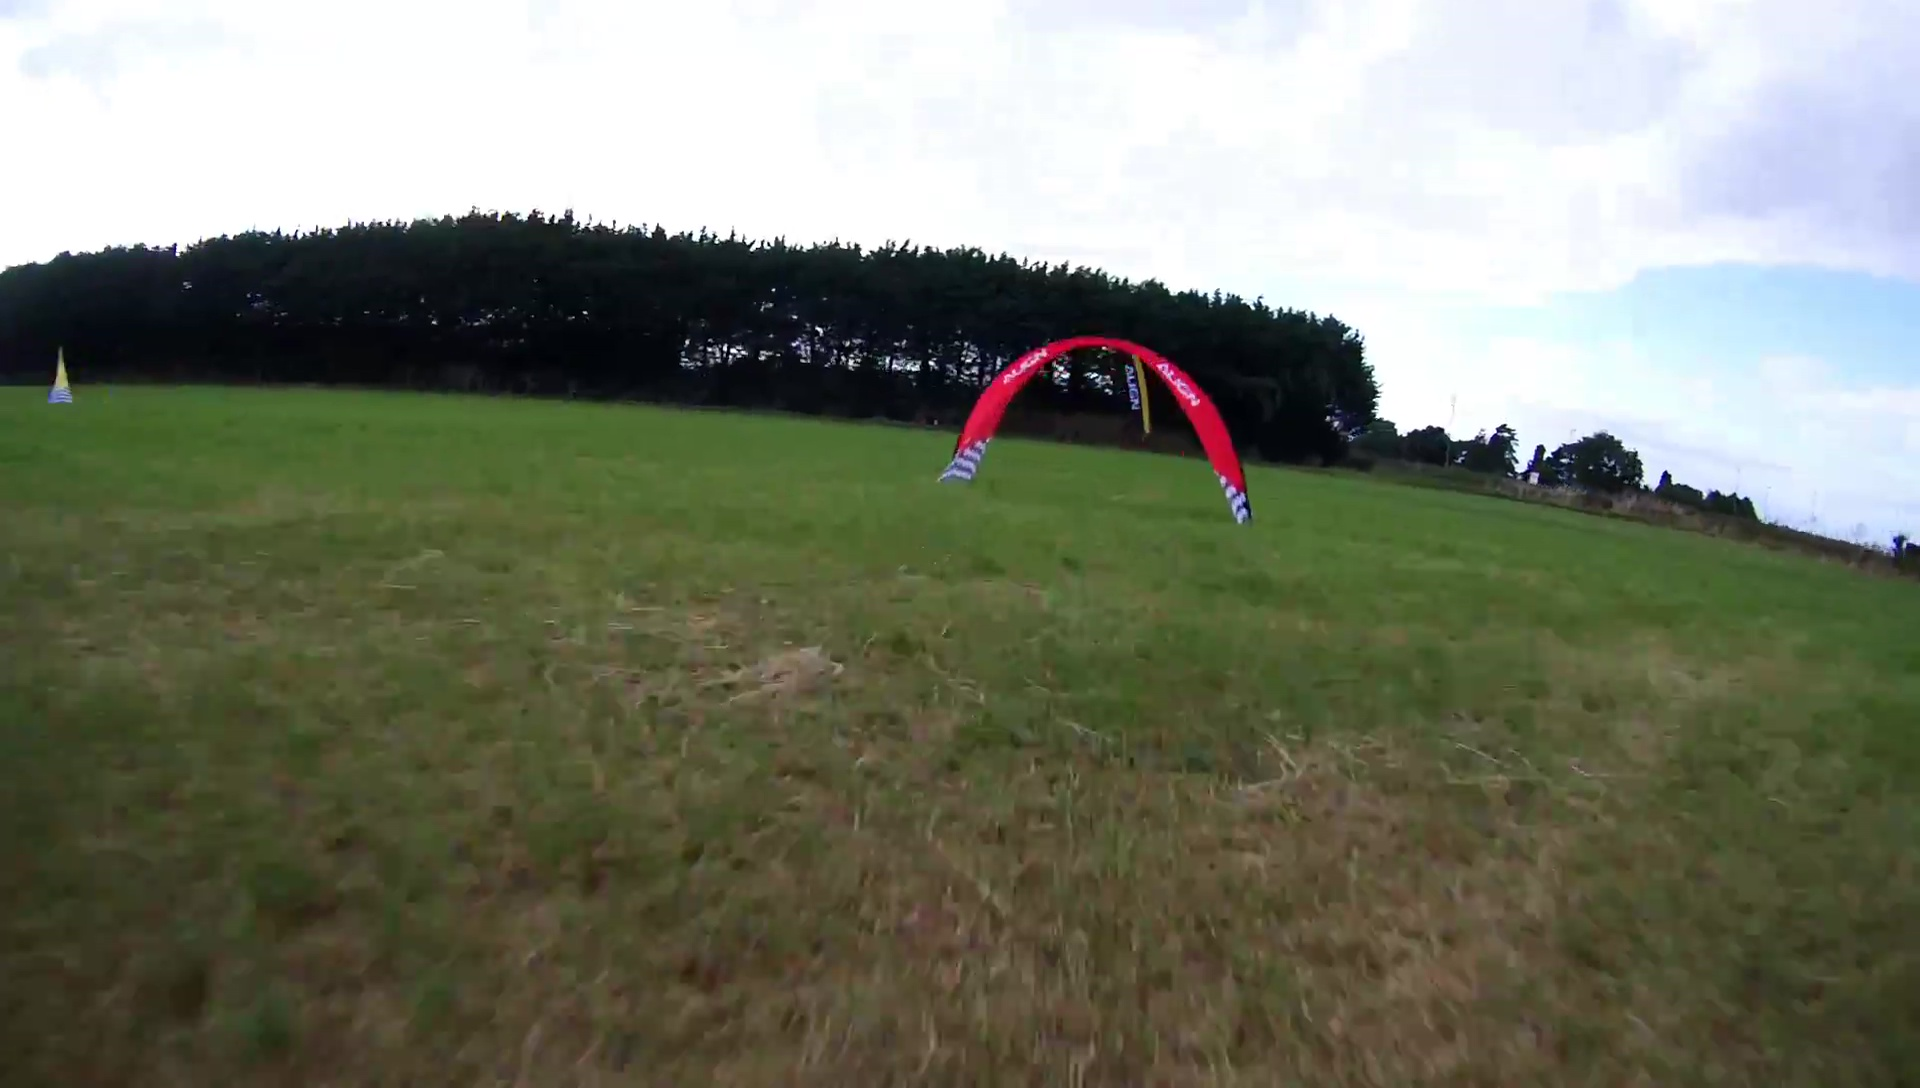gate: (938, 334, 1255, 528)
